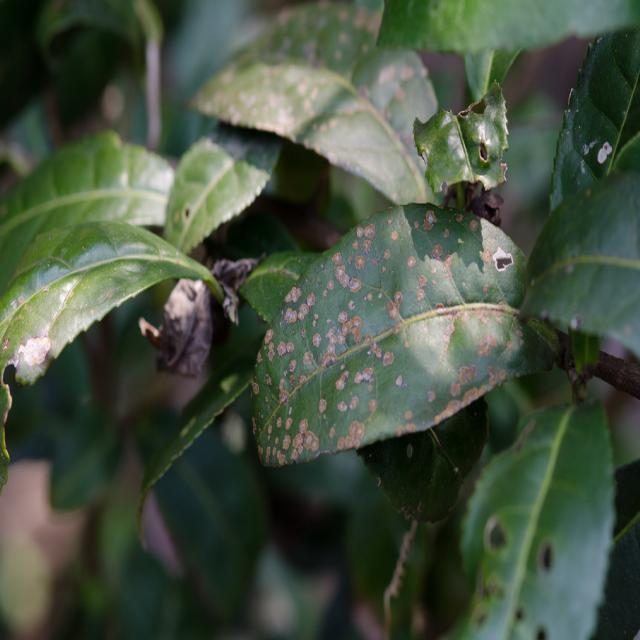Tea algae leaf spot: (264, 232, 497, 434)
